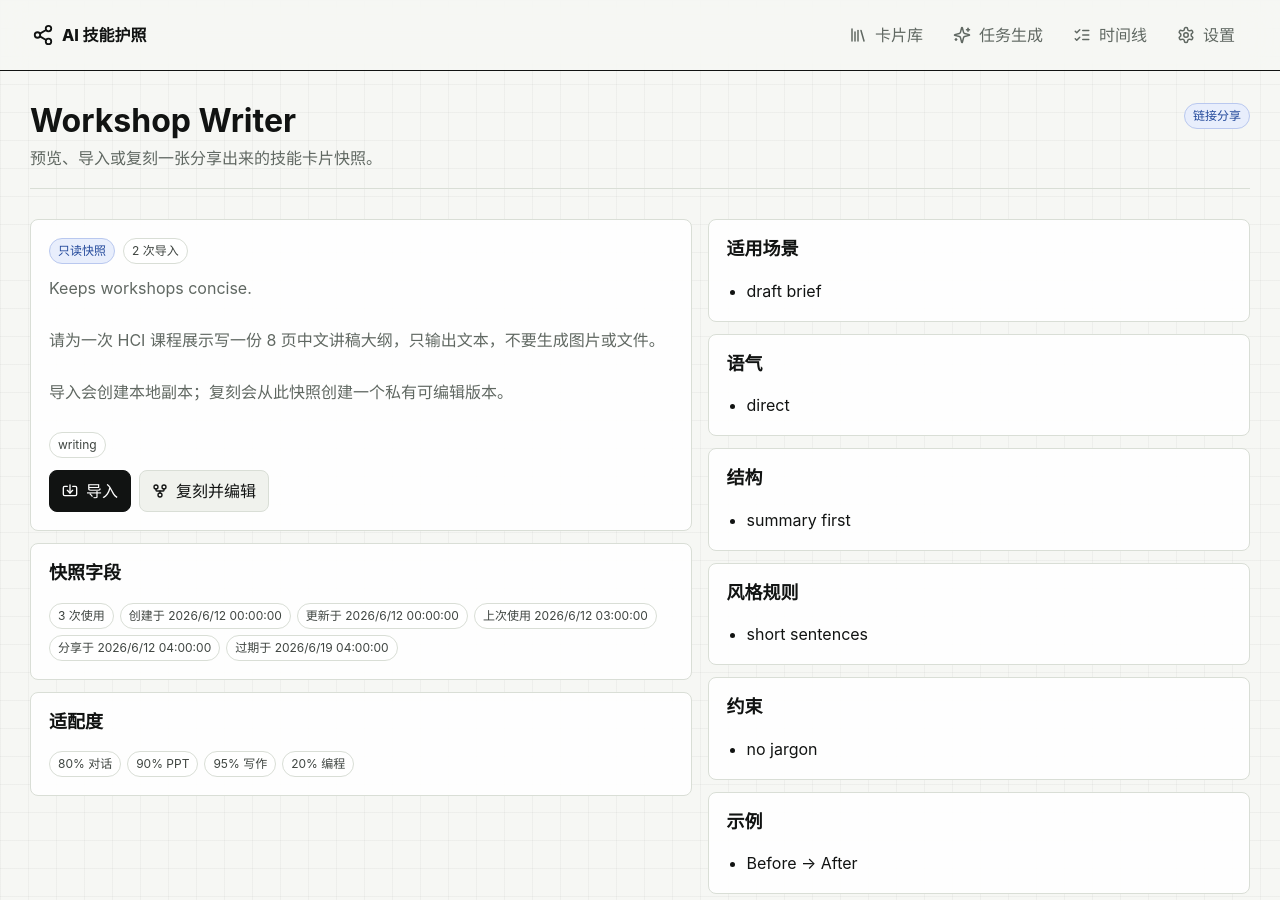
Test case: App › previews a share snapshot and imports or forks it
The width and height of the screenshot is (1280, 900).
expect the heading "Workshop Writer" is shown: met, box [30, 101, 296, 140]
expect the text "Keeps workshops concise." is shown: met, box [49, 278, 252, 298]
Click the button "导入": {"x": 90, "y": 491} [49, 470, 131, 512]
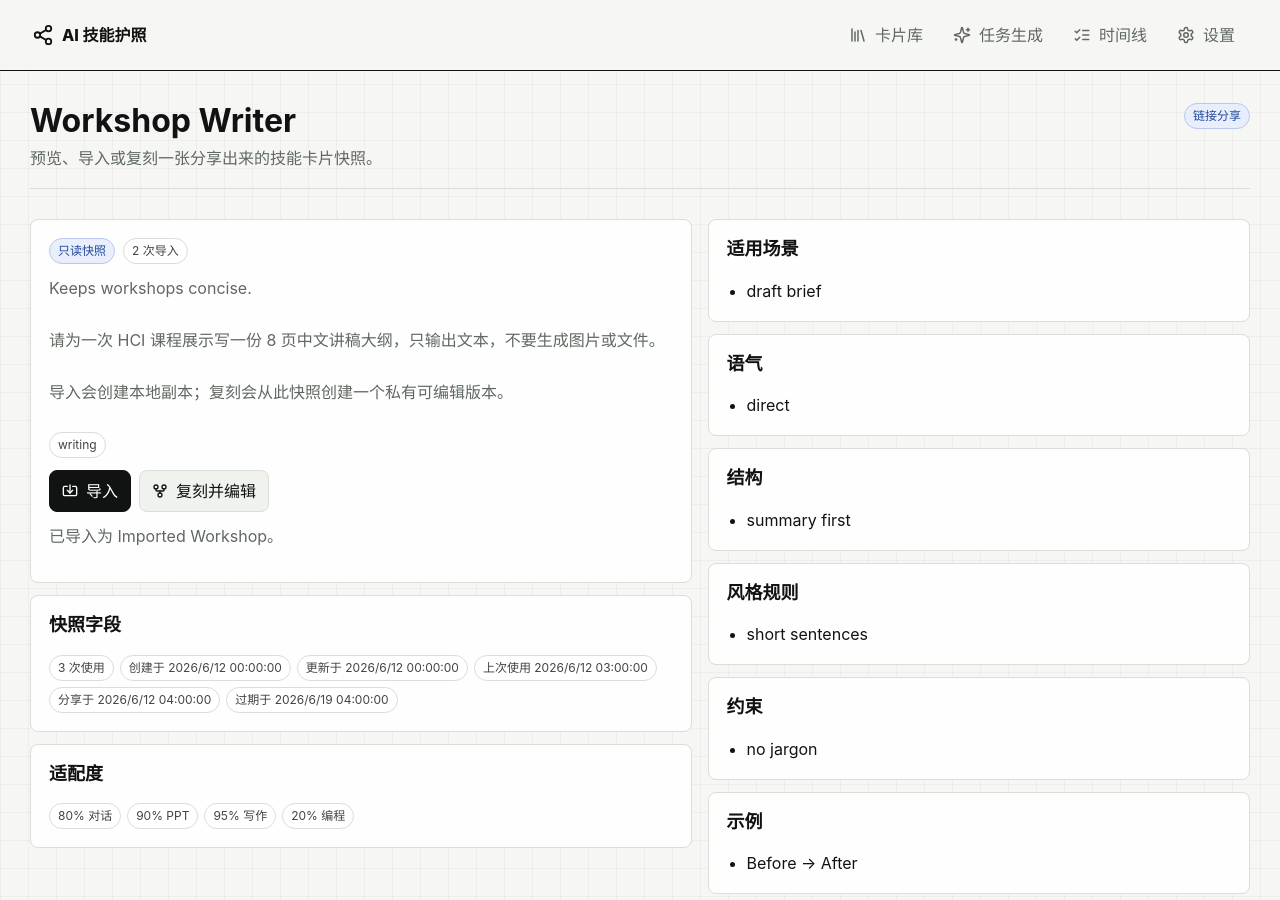
expect the text "已导入为 Imported Workshop。" is shown: met, box [49, 526, 283, 546]
Click the button "复刻并编辑": {"x": 204, "y": 491} [139, 470, 269, 512]
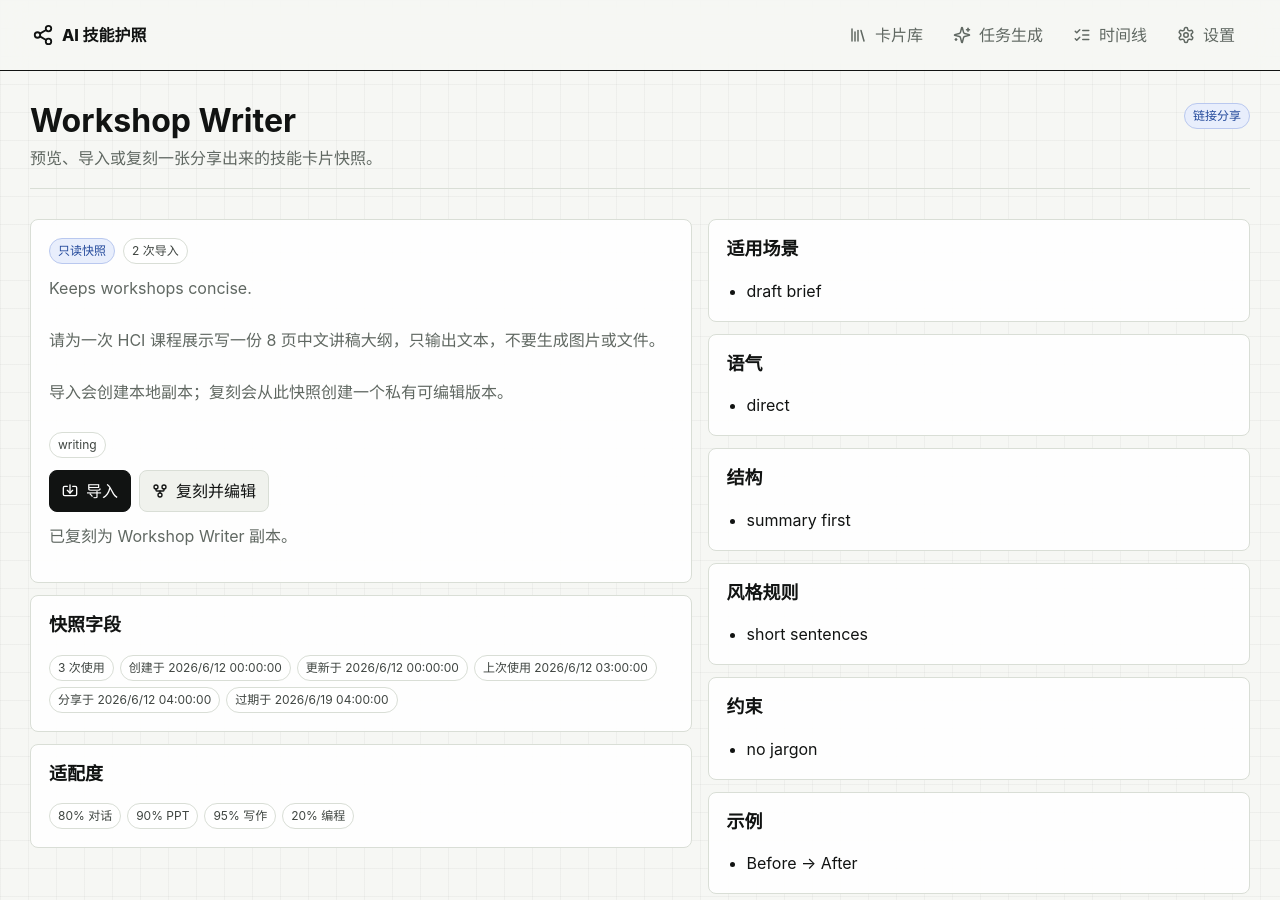
expect the text "已复刻为 Workshop Writer 副本。" is shown: met, box [49, 526, 297, 546]
